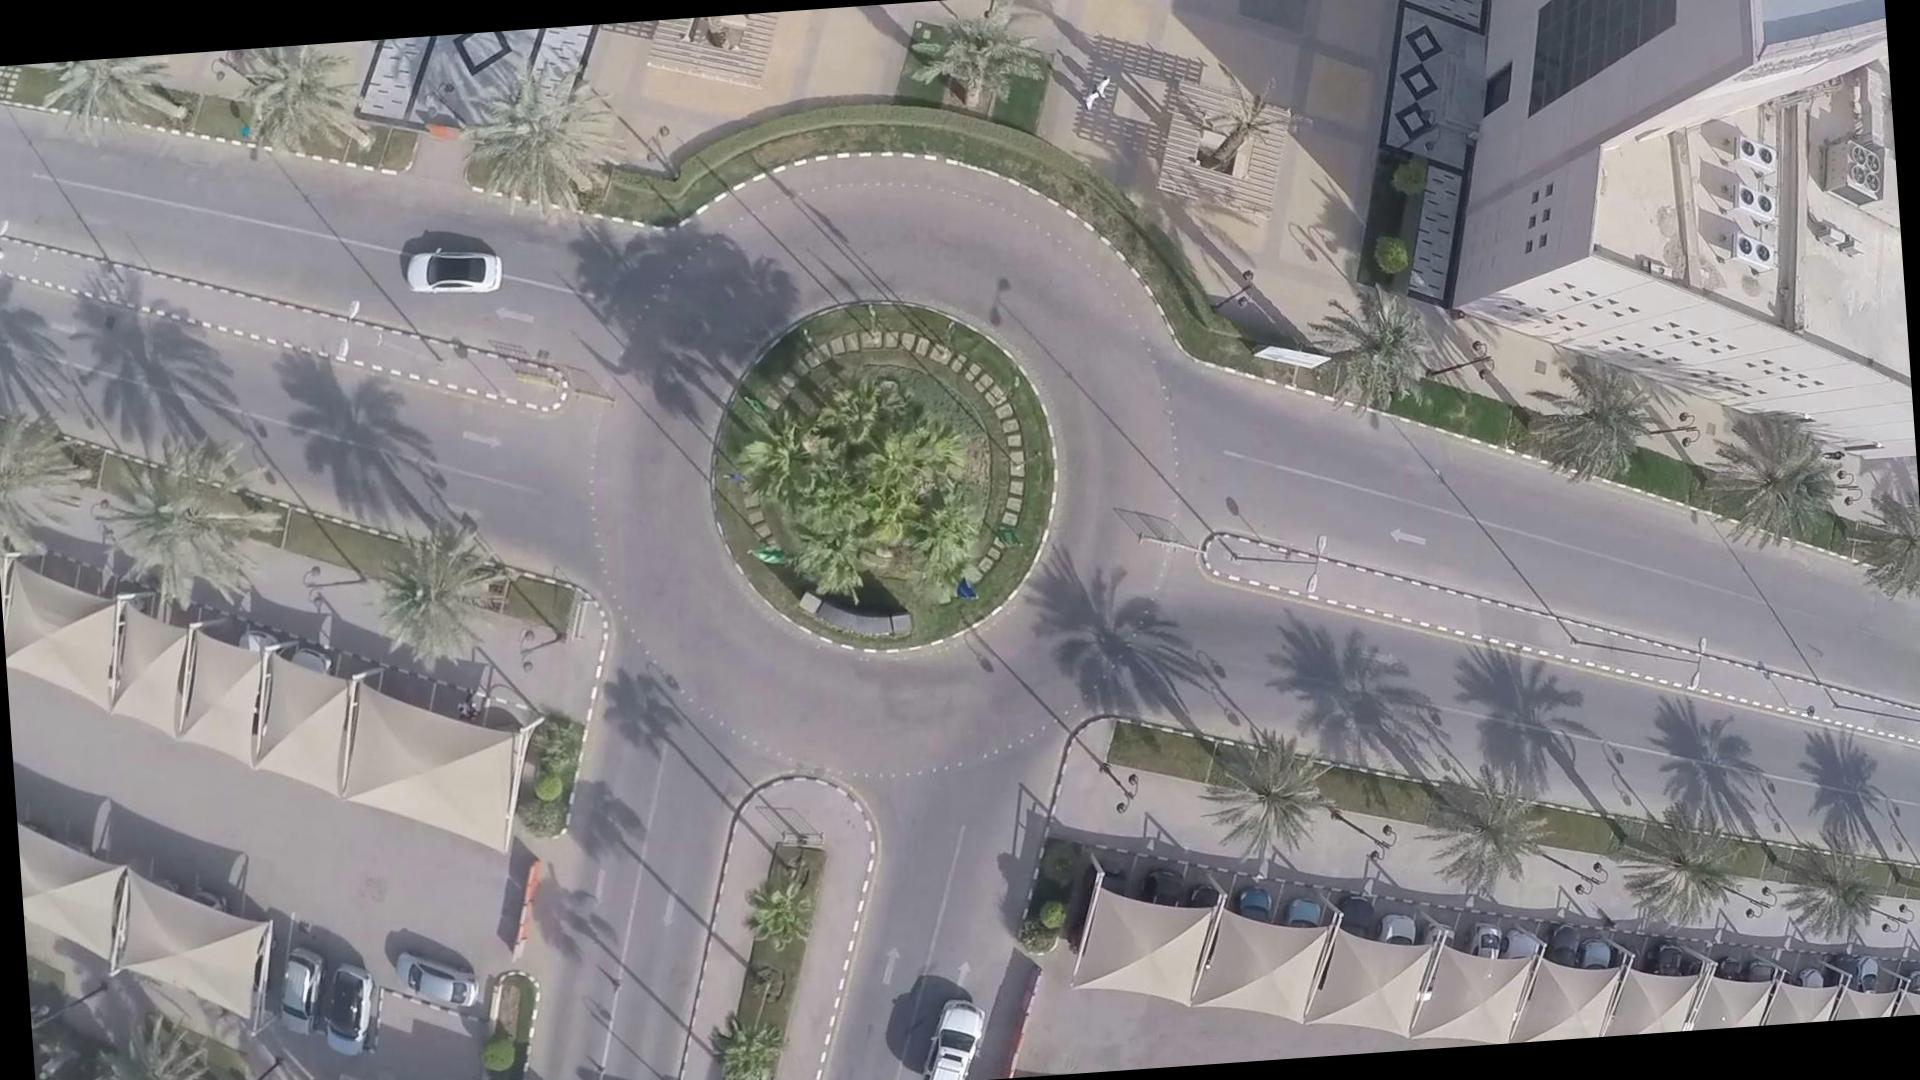vehicle: (400, 243, 504, 305)
